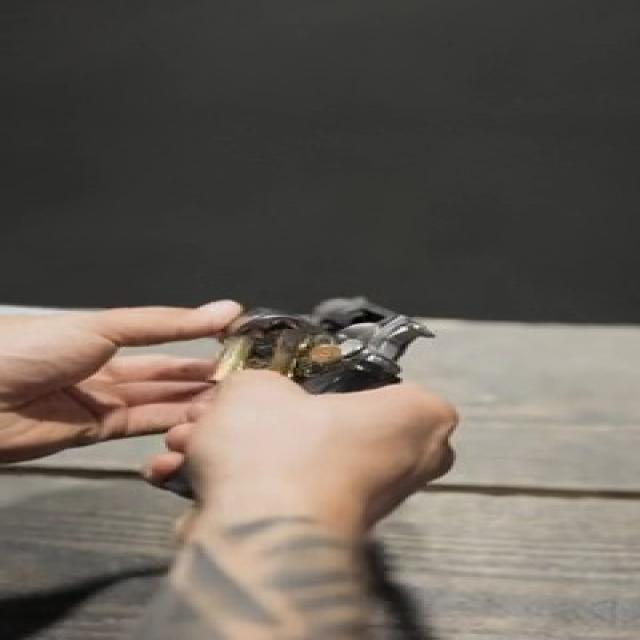Gun_Holder: (128, 290, 504, 475)
